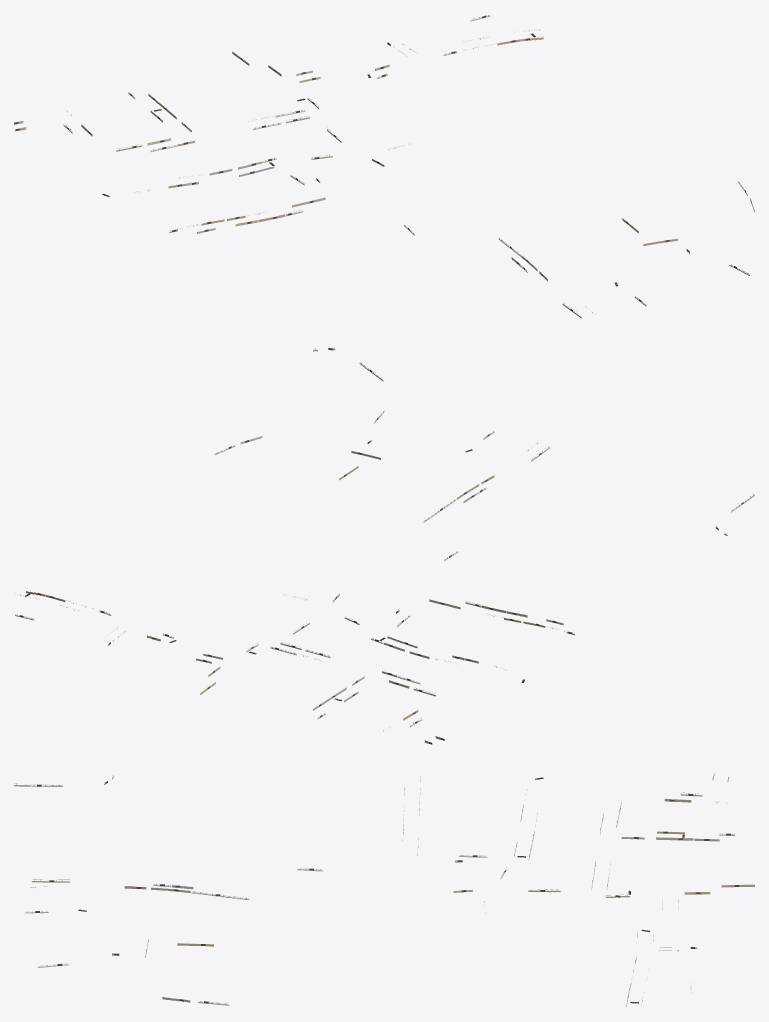
3 renders of one model, top to bottom at view 1: azimuth 30°, elevation 25°; view 2: azimuth 150°, elevation 25°; view 3: azimuth 270°, elevation 25°, orthographic. The views are drawn at different scales.
Parts seen in each view (by area): view 1: nd_st_m15_m8_lod0; view 2: nd_st_m15_m8_lod0; view 3: nd_st_m15_m8_lod0.
Boxes of the visible parts, bbox=[...] form: nd_st_m15_m8_lod0: bbox=[14, 14, 754, 381]; nd_st_m15_m8_lod0: bbox=[15, 410, 754, 744]; nd_st_m15_m8_lod0: bbox=[14, 773, 754, 1007].
Size of what is drawn, in the model's own units: 401 by 13.28 by 520.
